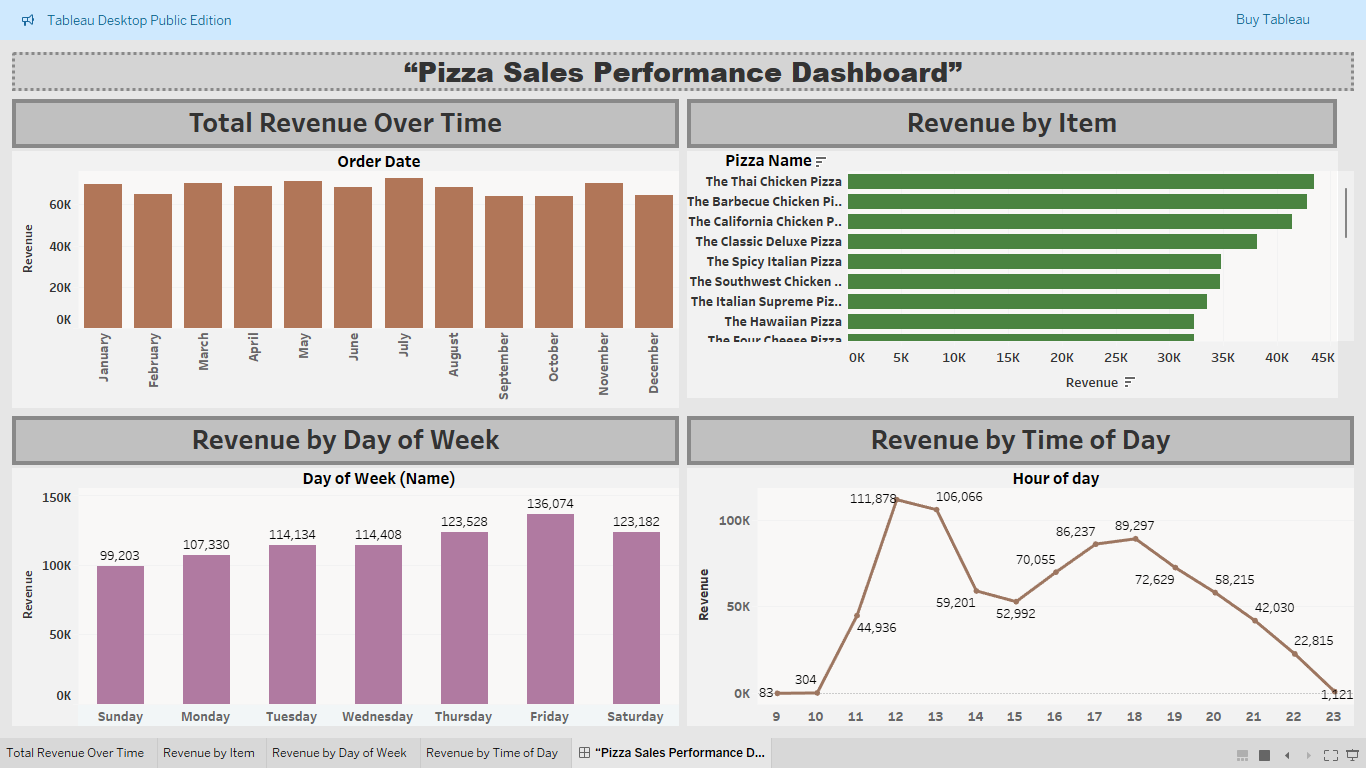

The page's visual inventory and layout, read from the dashboard file:
{"tool":"tableau","page":{"name":"“Pizza Sales Performance Dashboard”","canvas":[1000,1000],"units":"permille","ordinal":0},"visuals":[{"type":"title","box":[6.9,14.7,986.1,86.4]},{"type":"worksheet","title":"Total Revenue Over Time","mark":"Bar","rows":["Calculation_328762816838258692"],"cols":["order_date"],"box":[6.9,101.1,493,442.1]},{"type":"worksheet","title":"Revenue by Item","mark":"Bar","rows":["pizza_name"],"cols":["Calculation_328762816838258692"],"box":[499.9,101.1,493.2,442.1]},{"type":"worksheet","title":"Revenue by Day of Week","mark":"Automatic","rows":["Calculation_328762816838258692"],"cols":["Calculation_328762816837791745"],"box":[6.9,543.2,493,442.1]},{"type":"worksheet","title":"Revenue by Time of Day","mark":"Line","rows":["Calculation_328762816838258692"],"cols":["Calculation_328762816837955586"],"box":[499.9,543.2,493.2,442.1]}]}

Visuals, with their boxes on the dashboard's canvas, which has no fixed pixel size, in thousandths of its width and height (x1, y1, x2, y2). These are canvas units, not pixel positions in the 1366x768 screenshot, which may show the page scaled, cropped or inside an application window:
title: Rect(7, 15, 993, 101)
"Total Revenue Over Time" worksheet (Bar marks): Rect(7, 101, 500, 543)
"Revenue by Item" worksheet (Bar marks): Rect(500, 101, 993, 543)
"Revenue by Day of Week" worksheet: Rect(7, 543, 500, 985)
"Revenue by Time of Day" worksheet (Line marks): Rect(500, 543, 993, 985)
